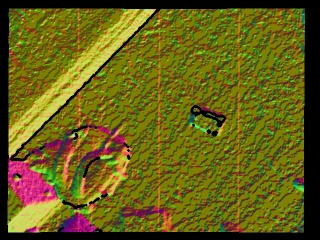station: (190, 105, 227, 137)
